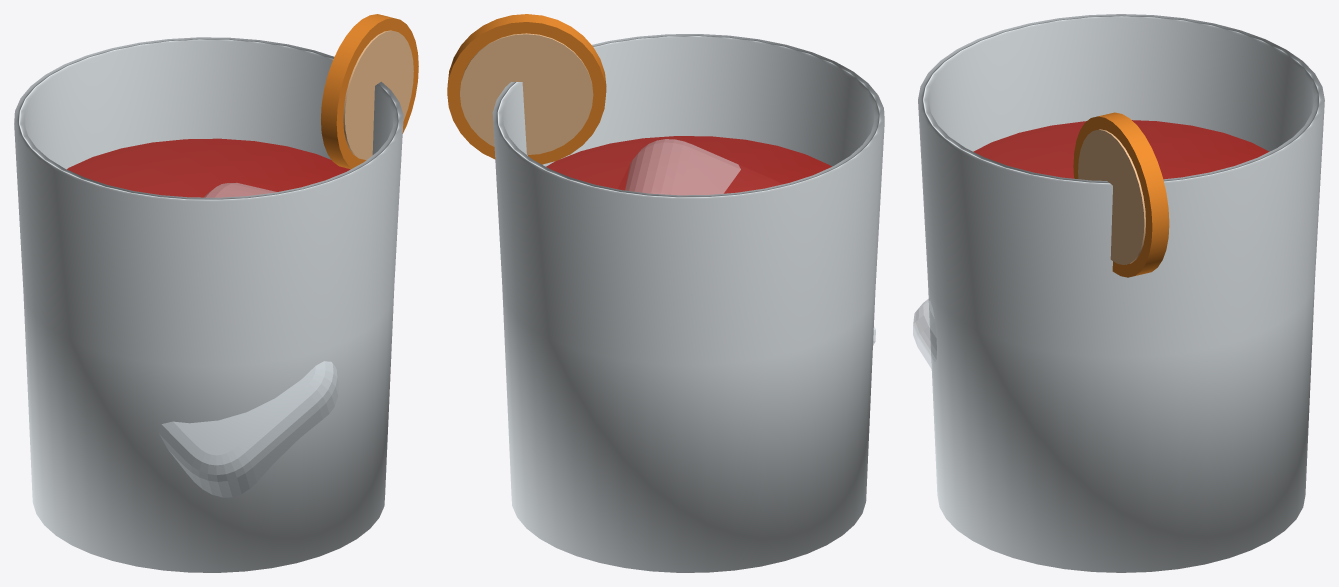
File: cocktail-american-love.glb
3 views of the same model, side by side, from view 1: azimuth 30°, elevation 25°; view 2: azimuth 150°, elevation 25°; view 3: azimuth 270°, elevation 25° (orthographic). The views are drawn at different scales.
Bounding box in the file's own units: 0.0979 × 0.104 × 0.085.
